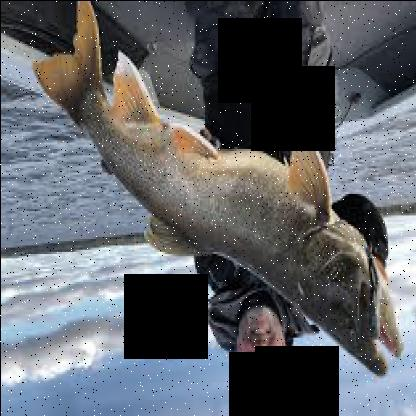fish: (29, 2, 413, 376)
